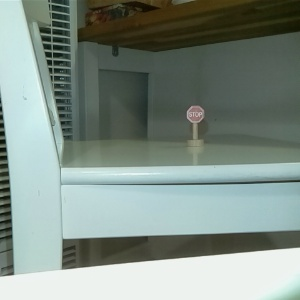stop sign: (185, 103, 206, 149)
